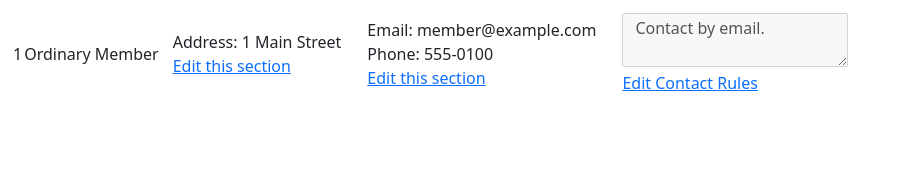
Test: cancel restores the saved address without sending a request
Click the text "Edit this section" below "Address:": (232, 66) [173,55,291,77]
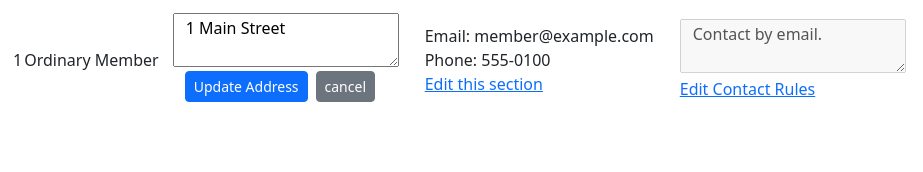
Replace the text in the 1st text box with placeholder "Please specify your address." with "999 Unsaved Avenue": (286, 40) [173,13,399,67]
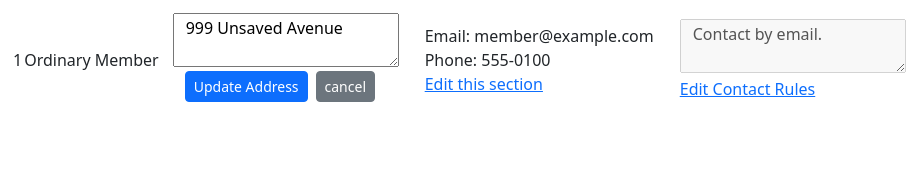
Click the button "cancel": (345, 86) [316,71,375,102]
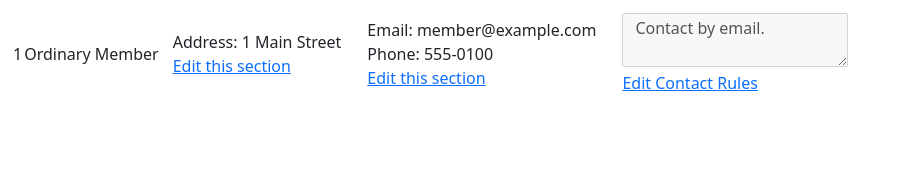
expect the text "Address: 1 Main Street" is shown: met, box [173,30,341,54]
Click the text "Edit this section" below "Address:": (232, 66) [173,55,291,77]
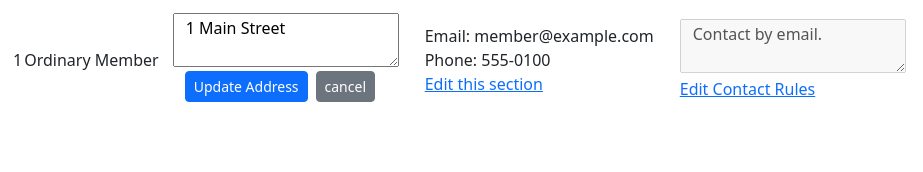
expect the 1st text box with placeholder "Please specify your address." holds "1 Main Street": met, box [173,13,399,67]
